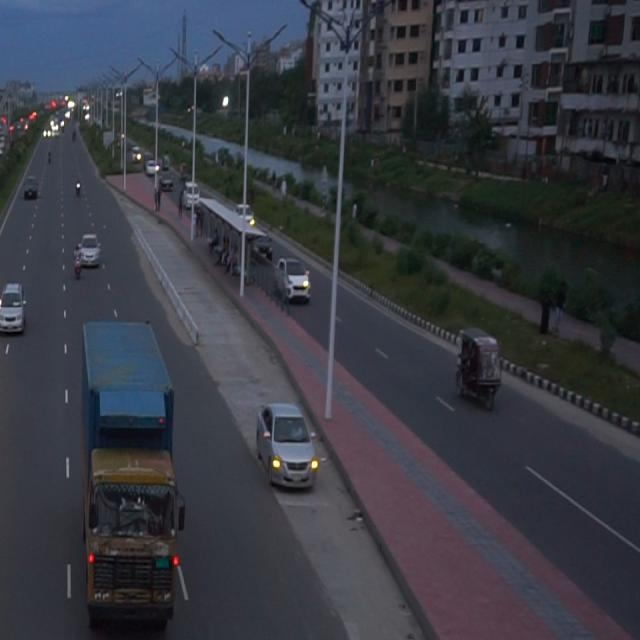van: (51, 282, 207, 640)
